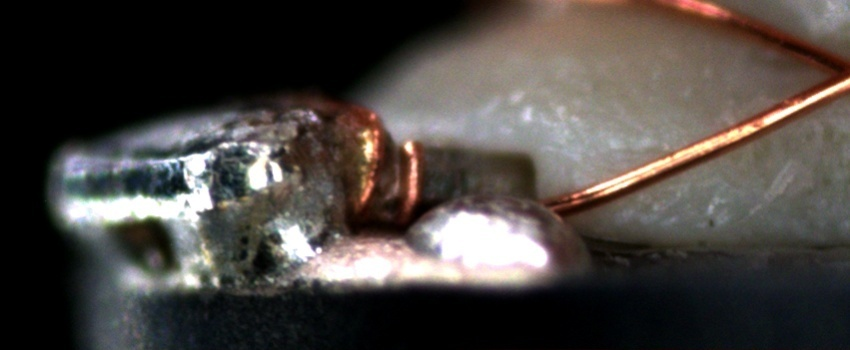CL: (799, 37, 850, 105)
DL: (598, 132, 679, 169)
TE: (335, 96, 430, 229)
